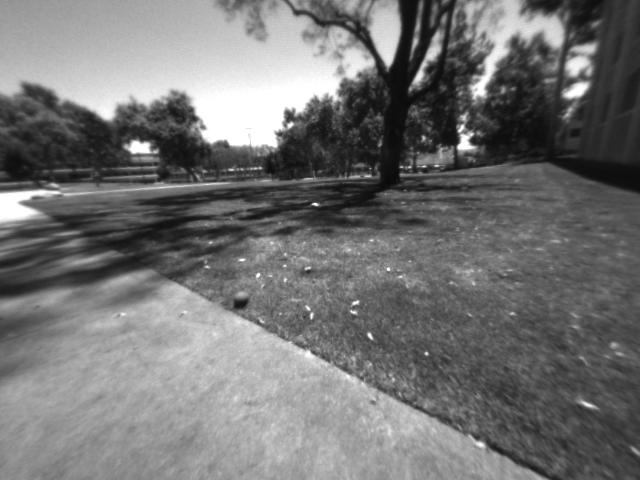dogtoy: (228, 281, 257, 316)
